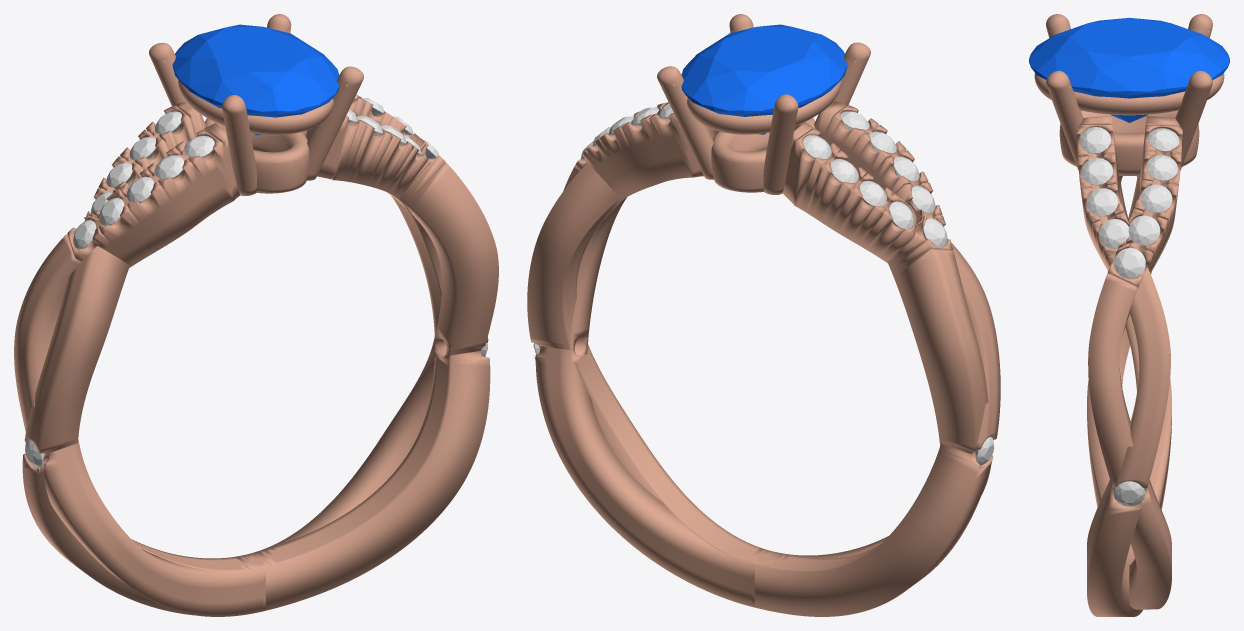
File: bluesapphire-oval-rosegold-4prong-twist-sidestones.glb
The picture shows the model from 3 angles, left to right: view 1: azimuth 30°, elevation 25°; view 2: azimuth 150°, elevation 25°; view 3: azimuth 270°, elevation 25°; orthographic projection.
Parts seen in each view (by area): view 1: metal, stone; view 2: metal, stone; view 3: metal, stone, Twist shank diamonds.015, Twist shank diamonds.016, Twist shank diamonds.017, Twist shank diamonds.012, Twist shank diamonds.011, Twist shank diamonds.013, Twist shank diamonds.014, Twist shank diamonds.018, Twist shank diamonds.010, Twist shank diamonds.019.
Part boxes in pixels (<box>): metal: <box>14,14,498,616</box>; stone: <box>172,24,339,135</box>; metal: <box>527,14,1000,616</box>; stone: <box>681,24,847,134</box>; metal: <box>1034,14,1224,616</box>; stone: <box>1029,17,1229,122</box>; Twist shank diamonds.015: <box>1114,248,1145,278</box>; Twist shank diamonds.016: <box>1128,215,1160,245</box>; Twist shank diamonds.017: <box>1141,184,1172,212</box>; Twist shank diamonds.012: <box>1086,188,1118,216</box>; Twist shank diamonds.011: <box>1099,219,1129,248</box>; Twist shank diamonds.013: <box>1081,158,1112,185</box>; Twist shank diamonds.014: <box>1079,127,1110,153</box>; Twist shank diamonds.018: <box>1146,155,1177,180</box>; Twist shank diamonds.010: <box>1113,481,1145,506</box>; Twist shank diamonds.019: <box>1148,128,1179,151</box>.
Size of the model in its own units: 19.97 by 23.2 by 7.64.
